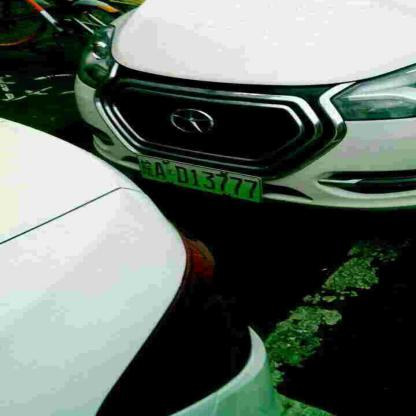lp: (135, 155, 264, 201)
